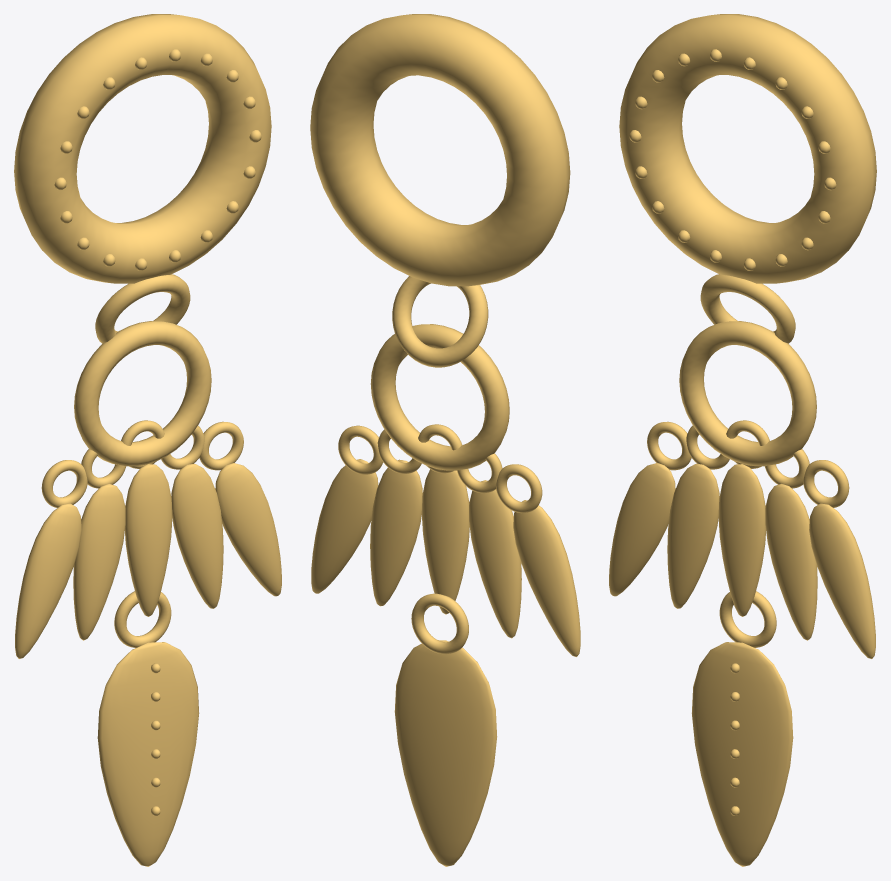
File: earring-prototype-v1.glb
3 renders of one model, left to right at view 1: azimuth 30°, elevation 25°; view 2: azimuth 150°, elevation 25°; view 3: azimuth 330°, elevation 25°, orthographic.
Parts seen in each view (by area): view 1: Silla-inspired gold earring prototype; view 2: Silla-inspired gold earring prototype; view 3: Silla-inspired gold earring prototype.
Boxes of the visible parts, box(x1,y1,x2,y2) form: Silla-inspired gold earring prototype: box(14, 14, 281, 866); Silla-inspired gold earring prototype: box(310, 14, 580, 866); Silla-inspired gold earring prototype: box(609, 14, 876, 866).
Size of the model in its own units: 0.0272 by 0.0828 by 0.00591.
